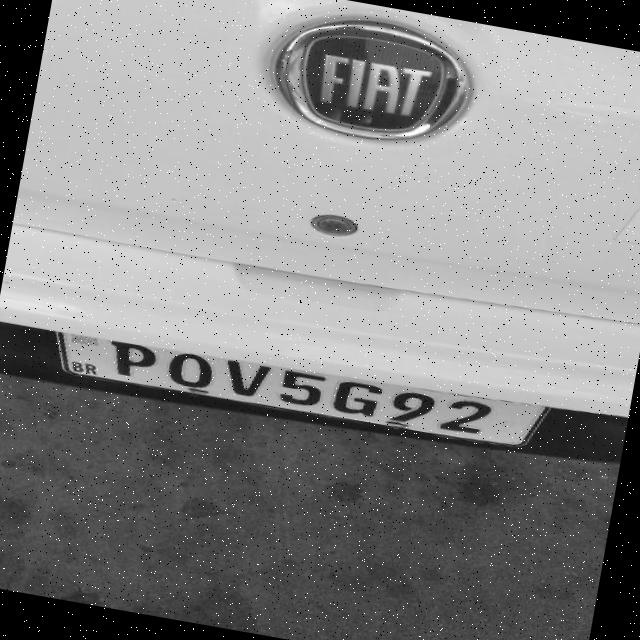placa_mercosul: (56, 333, 547, 445)
